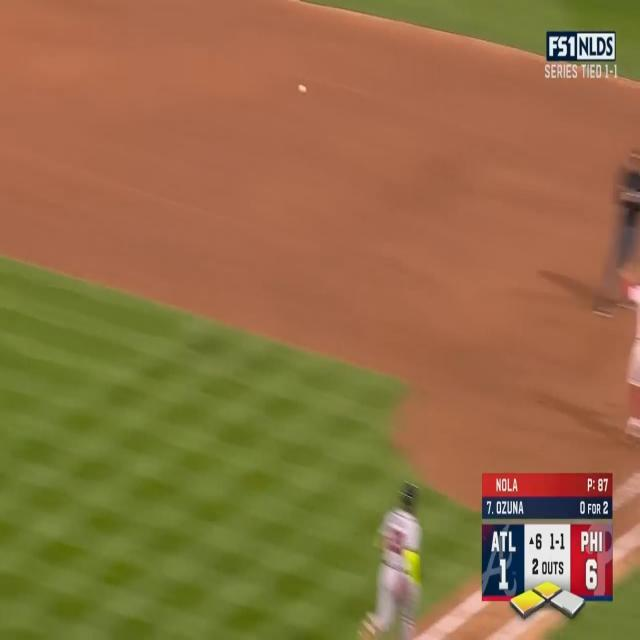baseball: (297, 81, 308, 95)
